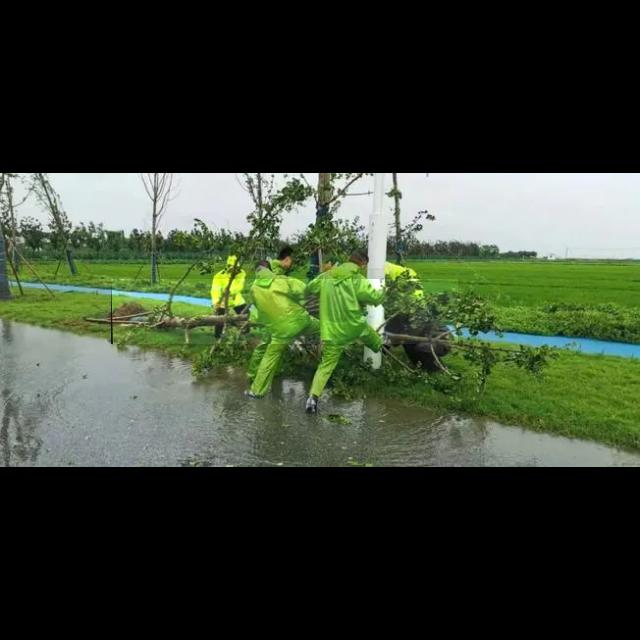Fallen Tree: (111, 279, 459, 345)
